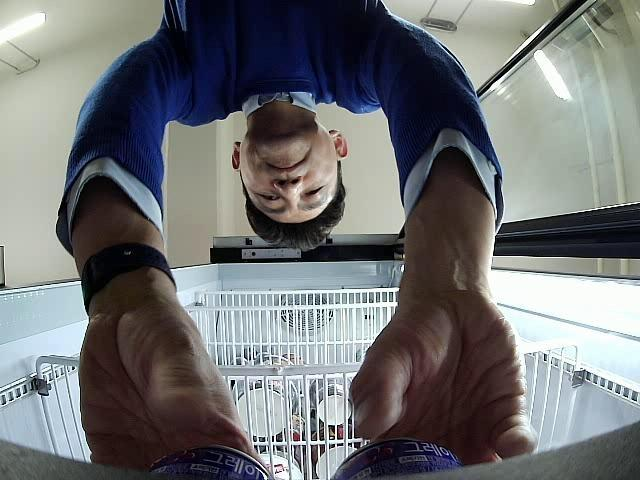14_welchsGrape: (331, 437, 462, 479), (148, 445, 274, 479)
